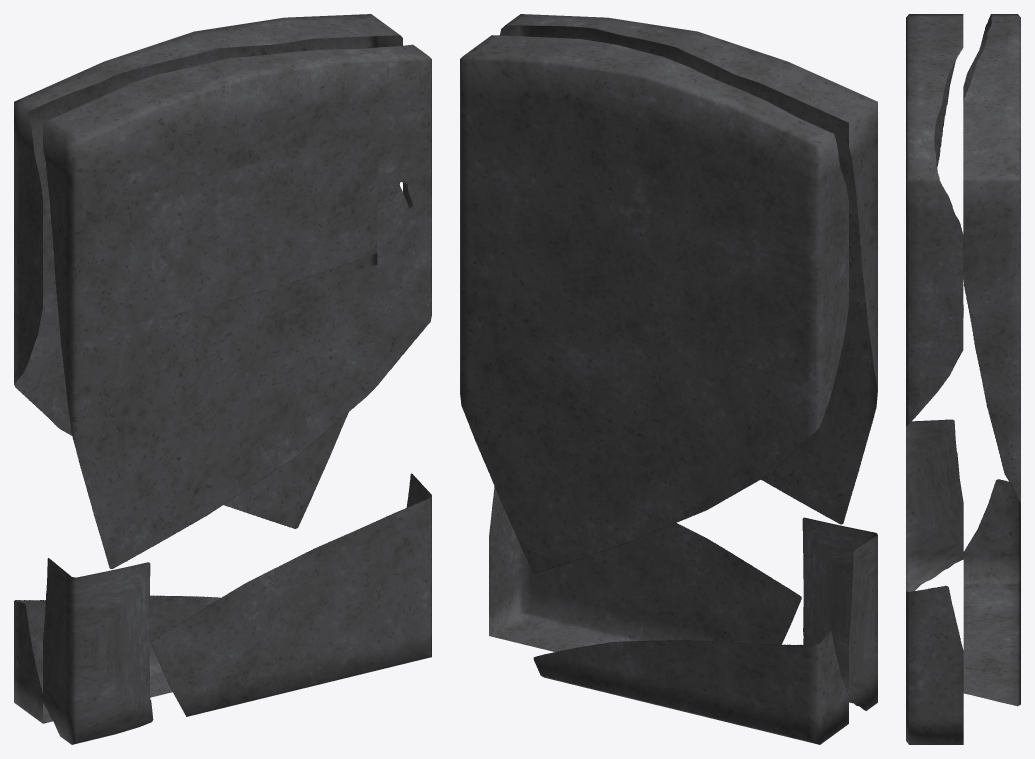
File: stone_02.fbx
3 views of the same model, side by side, from view 1: azimuth 30°, elevation 25°; view 2: azimuth 150°, elevation 25°; view 3: azimuth 270°, elevation 25° (orthographic). The views are drawn at different scales.
Parts seen in each view (by area): view 1: stone_02; view 2: stone_02; view 3: stone_02.
Part boxes in pixels (x1,y1,x2,y2): stone_02: [14, 14, 431, 744]; stone_02: [460, 14, 877, 744]; stone_02: [906, 14, 1020, 744].
Bounding box in the file's own units: 71.85 × 120 × 21.09.
